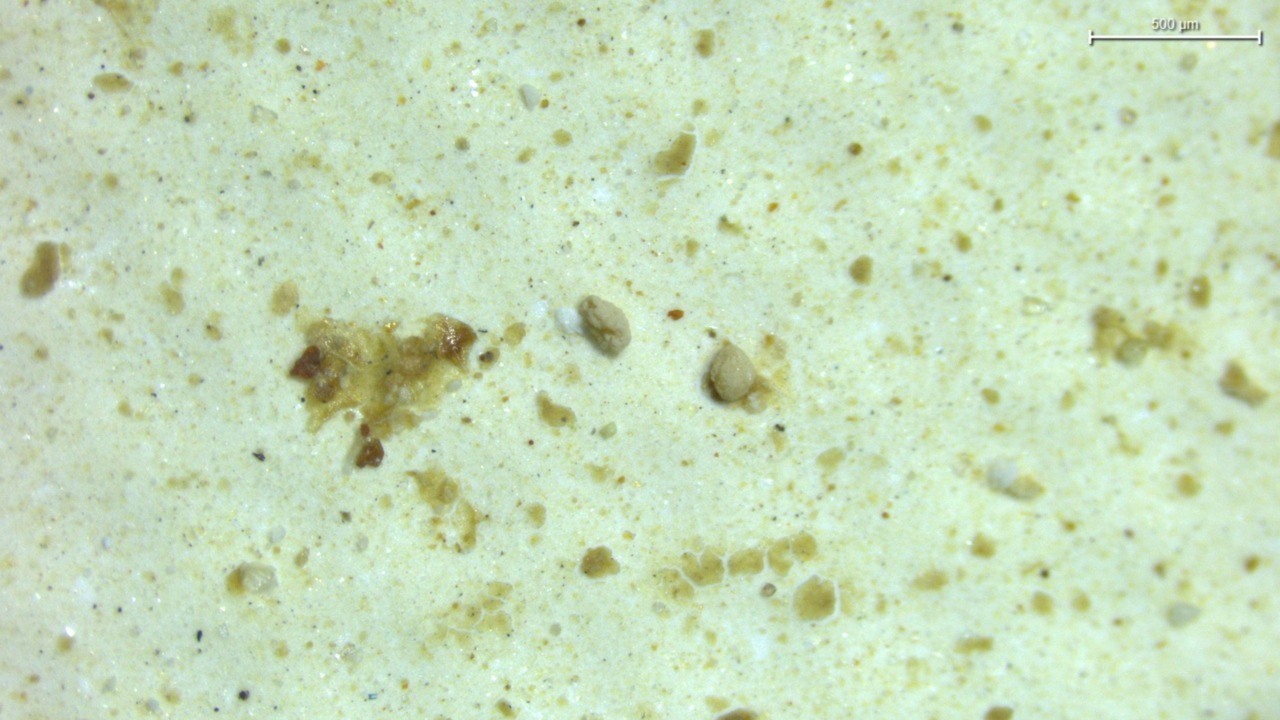microplastic_fragment: (577, 296, 630, 357), (704, 342, 756, 403)
